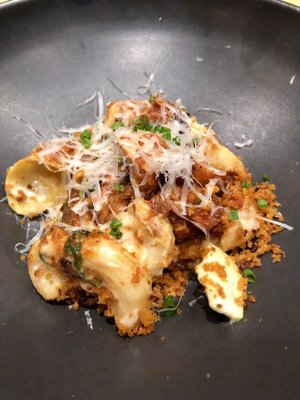curry: (1, 1, 299, 366)
sandwich: (3, 93, 292, 341)
